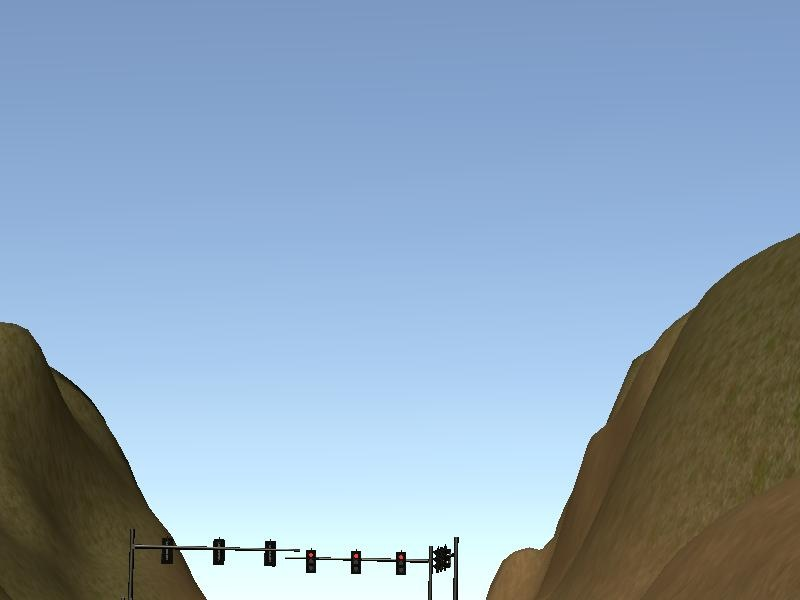Red: (396, 552, 406, 575), (351, 551, 361, 574), (306, 550, 316, 572)
